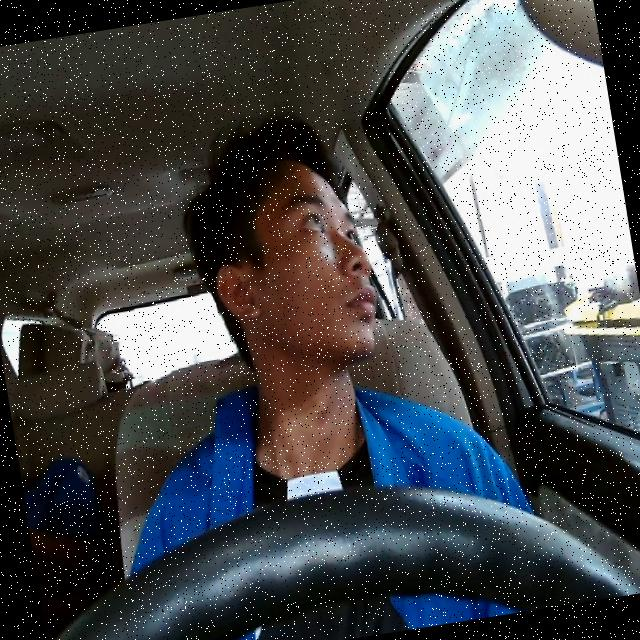seeing_right: (194, 145, 386, 381)
